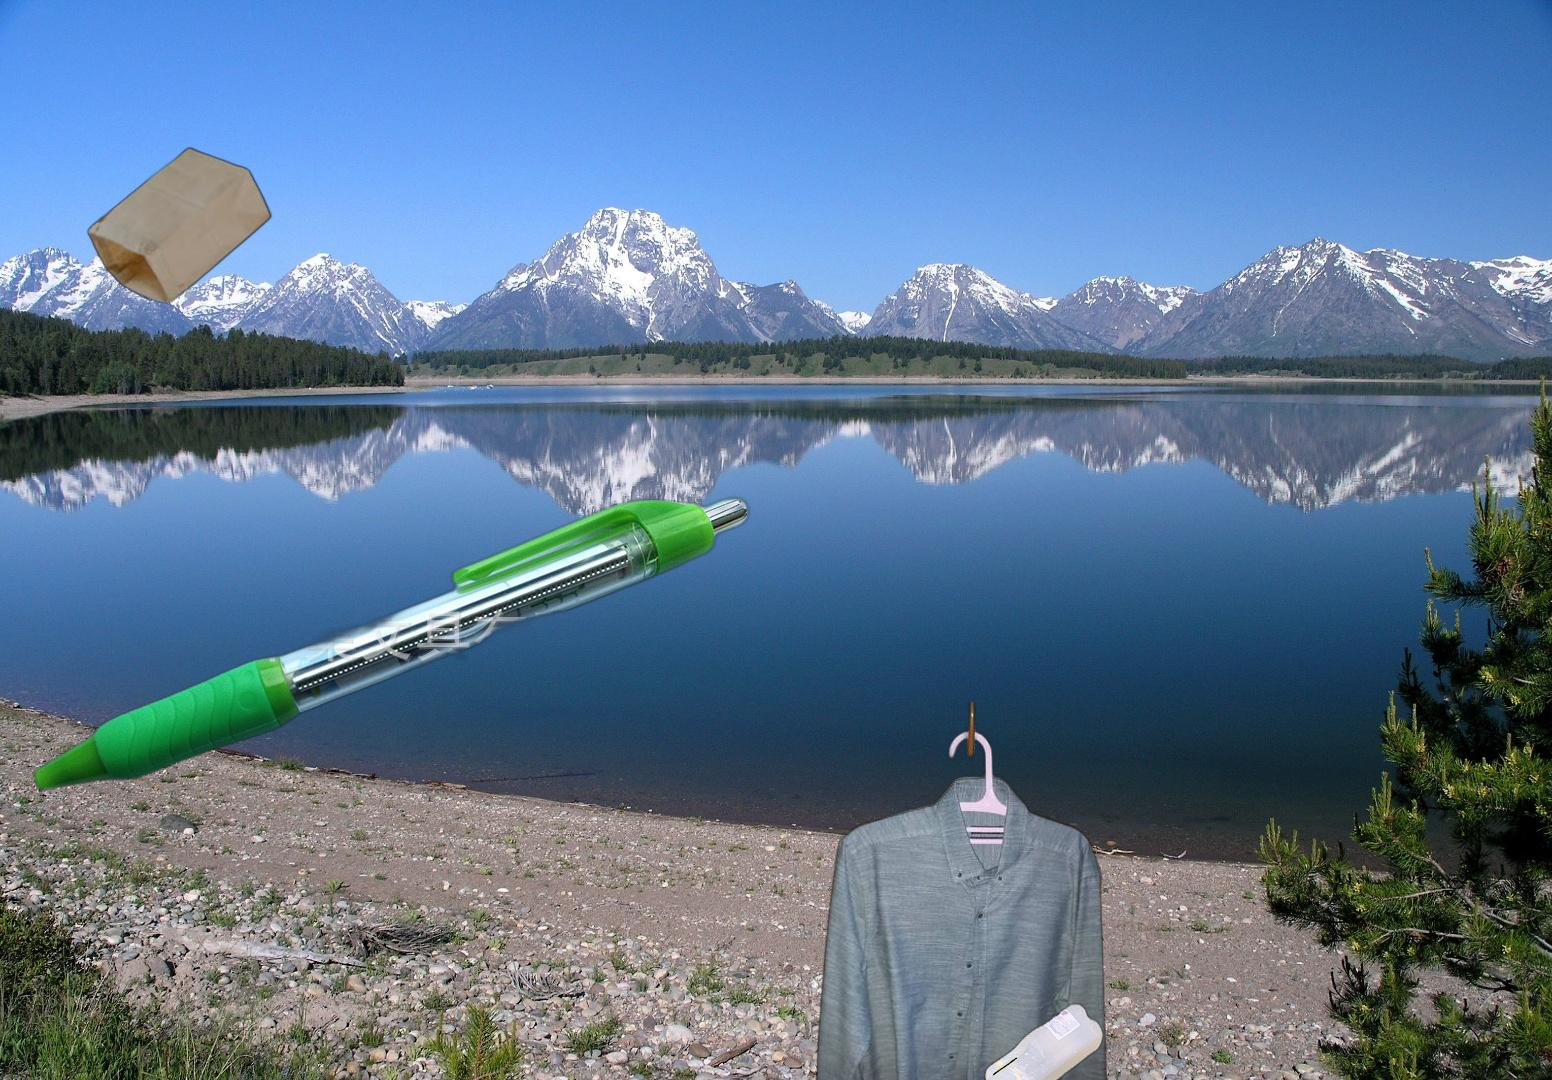clothes: (813, 702, 1111, 1080)
paper-bag: (86, 145, 274, 371)
penholder: (28, 494, 764, 883)
plastic-bottles: (978, 855, 1343, 1080)
